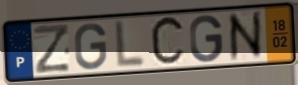C: (149, 13, 187, 70)
G: (188, 13, 225, 65), (73, 21, 109, 72)
L: (114, 19, 147, 71)
N: (225, 9, 266, 65)
Z: (32, 22, 73, 76)
